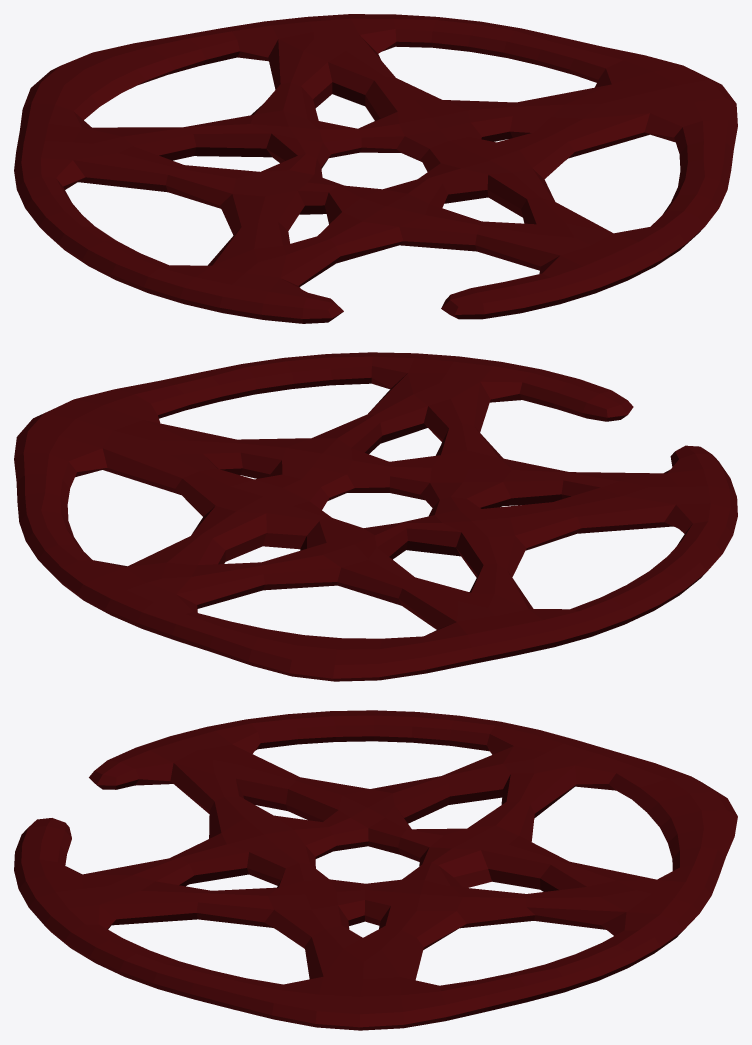
File: pentagrame.fbx
The picture shows the model from 3 angles, top to bottom: view 1: azimuth 30°, elevation 25°; view 2: azimuth 150°, elevation 25°; view 3: azimuth 270°, elevation 25°; orthographic projection. The views are drawn at different scales.
Visible parts, largest first — view 1: autel sacrificiel .002; view 2: autel sacrificiel .002; view 3: autel sacrificiel .002.
Boxes of the visible parts, x1,y1,x2,y2 form: autel sacrificiel .002: (14,14,737,323); autel sacrificiel .002: (14,352,737,681); autel sacrificiel .002: (14,710,737,1030).
Bounding box in the file's own units: 148 × 5.8 × 143.
